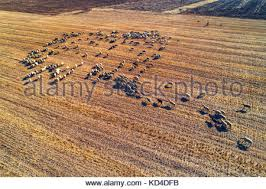sheep: (218, 118, 228, 131), (241, 135, 252, 146), (241, 102, 253, 110), (156, 95, 164, 107), (201, 104, 211, 113), (167, 98, 176, 108), (183, 92, 192, 102), (142, 96, 151, 104)
